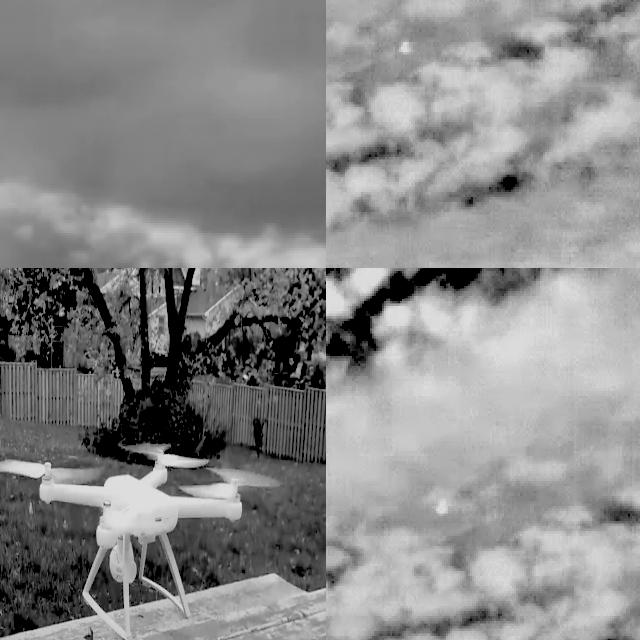0: (428, 488, 458, 526), (391, 35, 415, 67)
drone: (2, 435, 244, 638)
